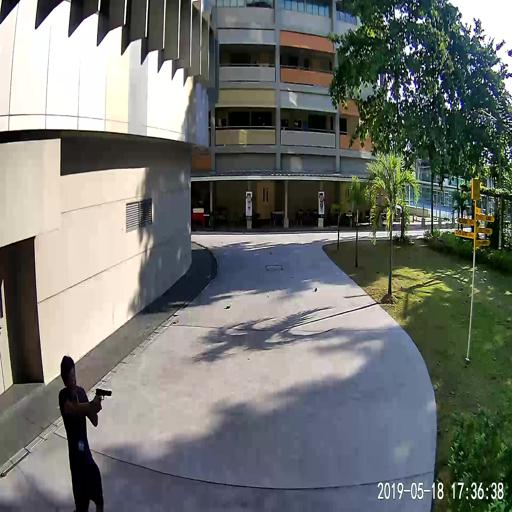pistol: (95, 386, 112, 404)
